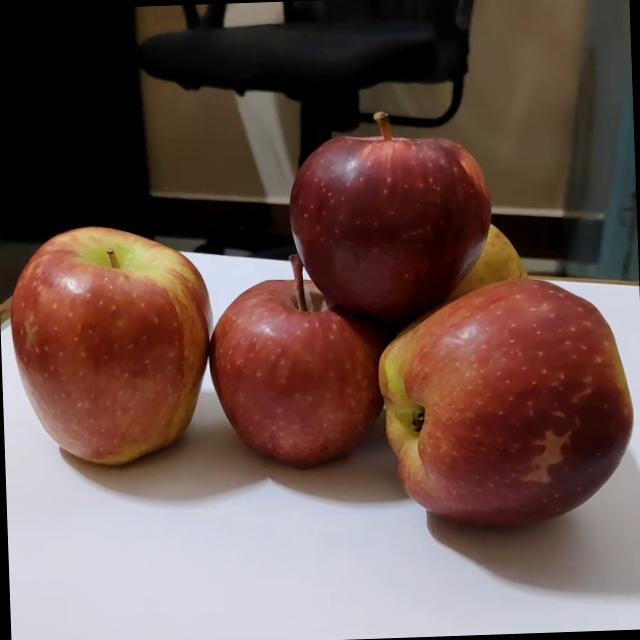apple: (365, 278, 637, 546), (6, 217, 216, 470), (276, 102, 494, 328), (205, 248, 393, 477), (404, 212, 532, 314)
